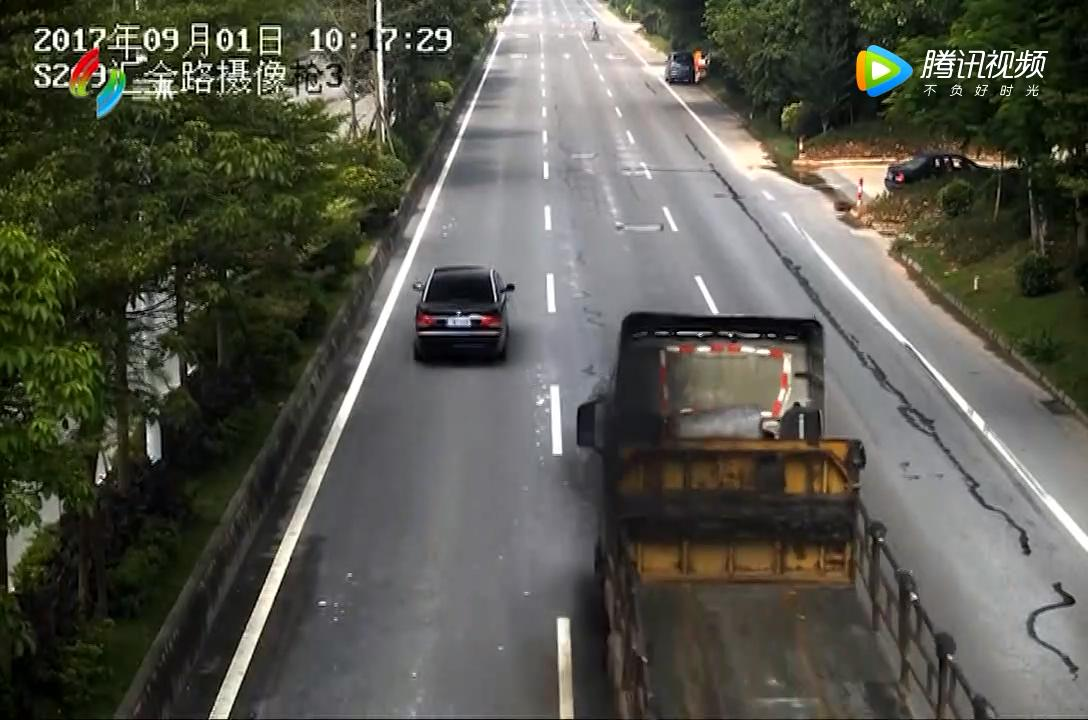smoke: (557, 368, 674, 631)
